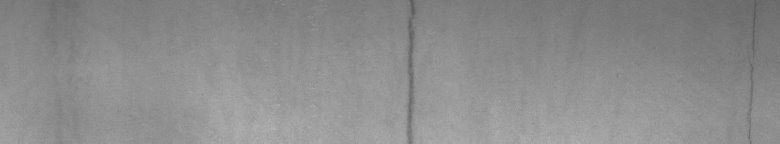hd: (404, 4, 416, 136)
